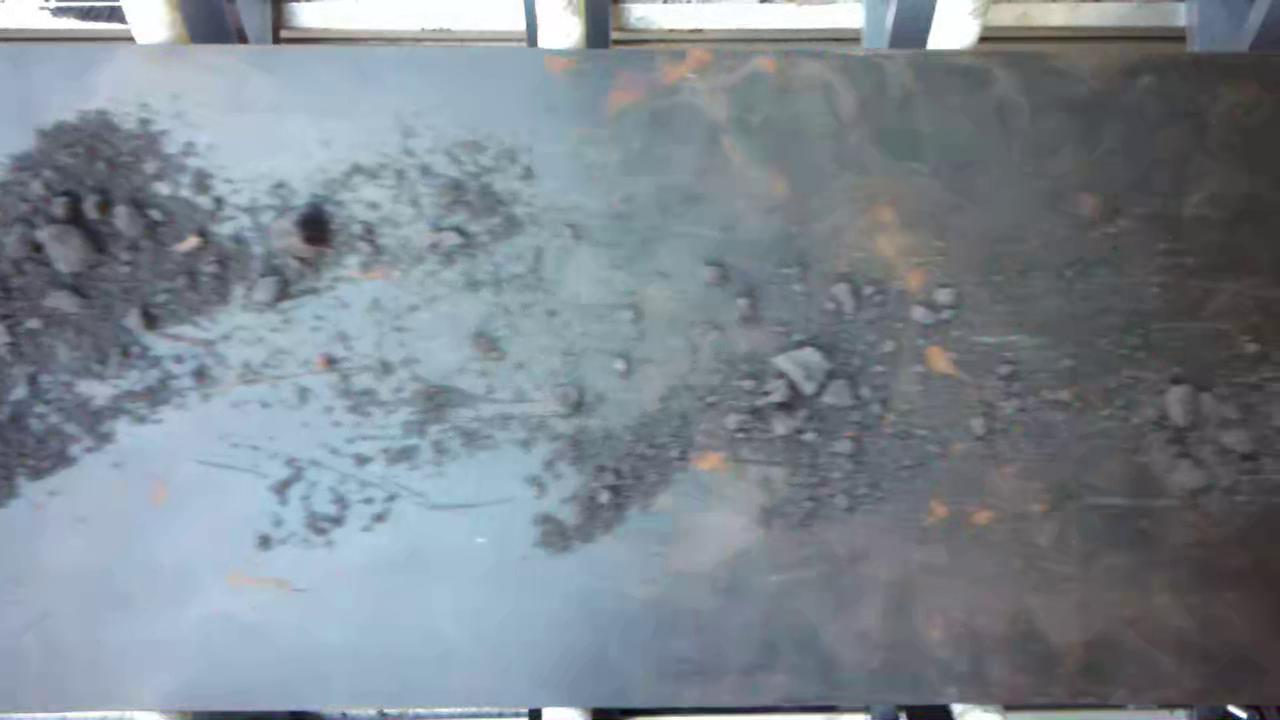conveyor: (5, 54, 1280, 691)
